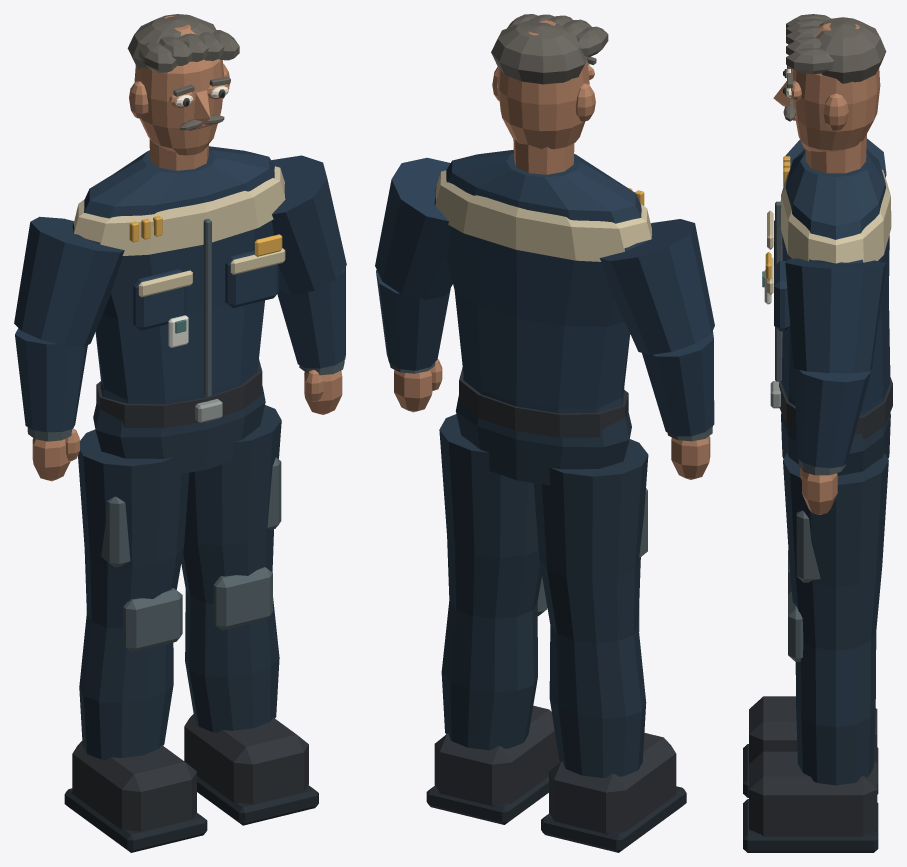
The model's file is Arslan.glb.
3 renders of one model, left to right at view 1: azimuth 30°, elevation 25°; view 2: azimuth 150°, elevation 25°; view 3: azimuth 270°, elevation 25°, orthographic. The views are drawn at different scales.
Parts seen in each view (by area): view 1: Arslan; view 2: Arslan; view 3: Arslan.
Part boxes in pixels (left/top/right/bottom): Arslan: left=14, top=14, right=346, bottom=852; Arslan: left=375, top=14, right=714, bottom=852; Arslan: left=743, top=14, right=892, bottom=852.
Size of the model in its own units: 0.7738 by 1.78 by 0.309.
